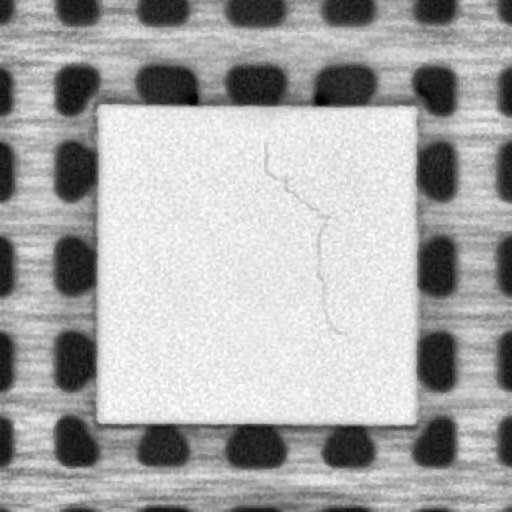DIE_CRACK: (256, 140, 347, 336)
